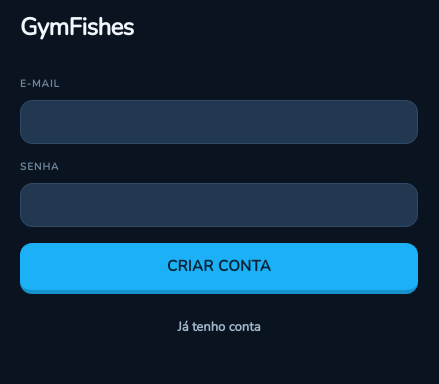
SignUp › shows a generic pt-BR message when Supabase rejects the sign-up
This screenshot has width=439, height=384.
In the field labelled "E-mail": (219, 122) [20, 100, 418, 144], type "leo@exemplo.com"
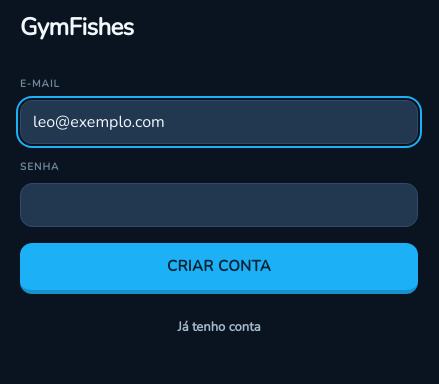
In the password field labelled "Senha": (219, 205) [20, 183, 418, 227], type "senhaforte1"
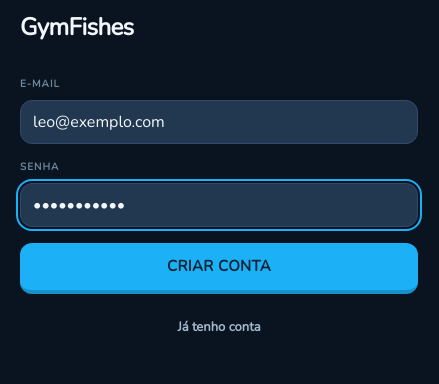
Click the button "Criar conta": (219, 268) [20, 243, 418, 294]
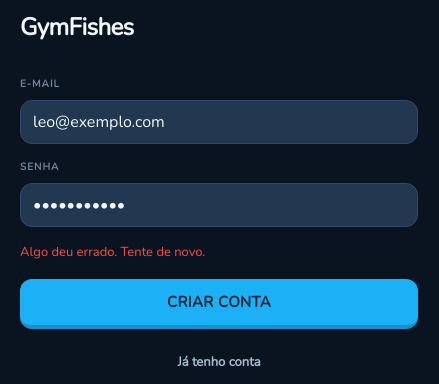
expect the text "Algo deu errado. Tente de novo." is shown: met, box [20, 243, 205, 261]
